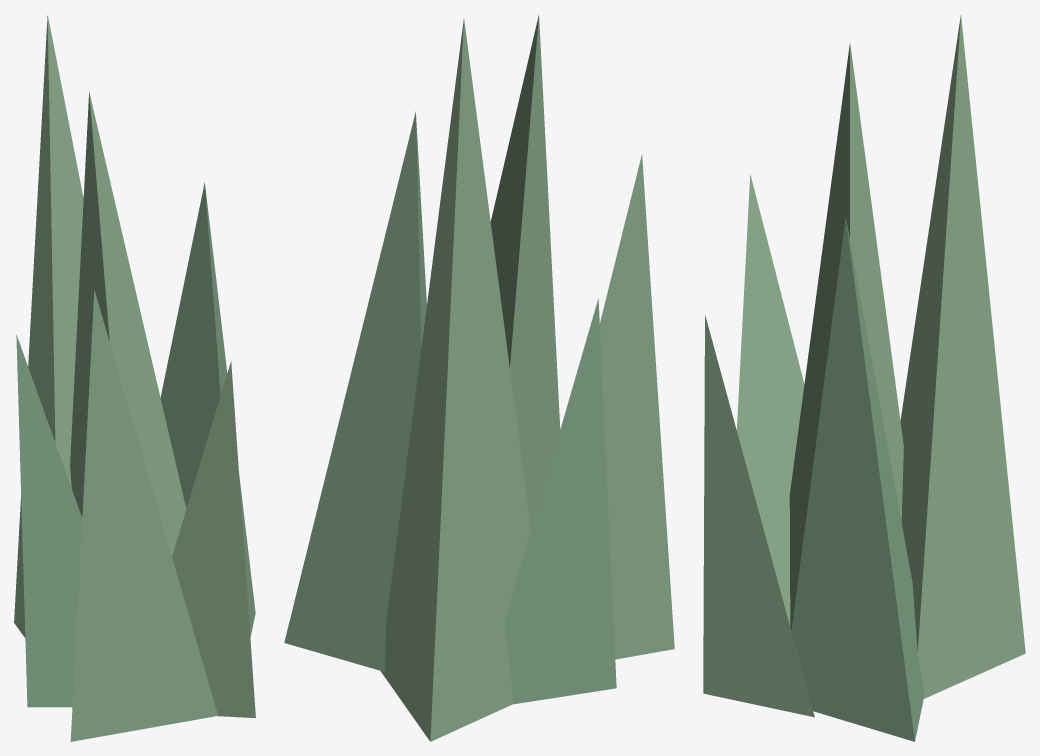
The model's file is Mystic_Grass.fbx.
3 views of the same model, side by side, from view 1: azimuth 30°, elevation 25°; view 2: azimuth 150°, elevation 25°; view 3: azimuth 270°, elevation 25° (orthographic). The views are drawn at different scales.
Parts seen in each view (by area): view 1: Mystic_Grass; view 2: Mystic_Grass; view 3: Mystic_Grass.
Part boxes in pixels (x1=…): Mystic_Grass: x1=14, y1=15, x2=255, y2=741; Mystic_Grass: x1=284, y1=15, x2=674, y2=741; Mystic_Grass: x1=703, y1=15, x2=1025, y2=741.
Size of the model in its own units: 21.6 by 48.45 by 22.12.
